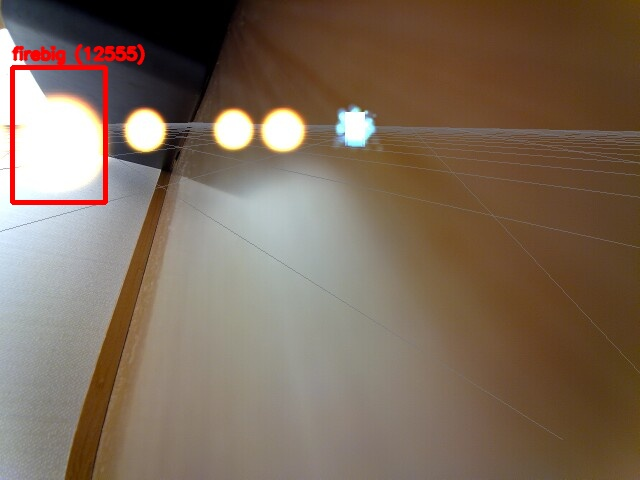firebig: (12, 67, 105, 202)
